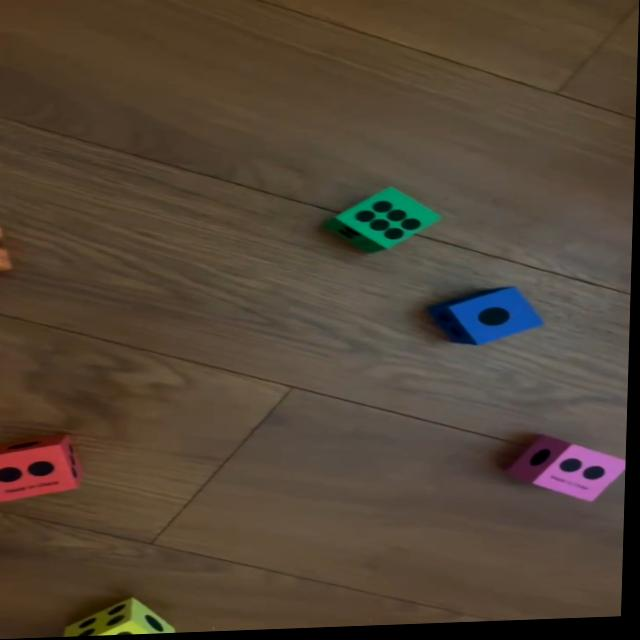cube: (326, 190, 442, 259), (432, 289, 547, 349), (0, 436, 88, 503)
